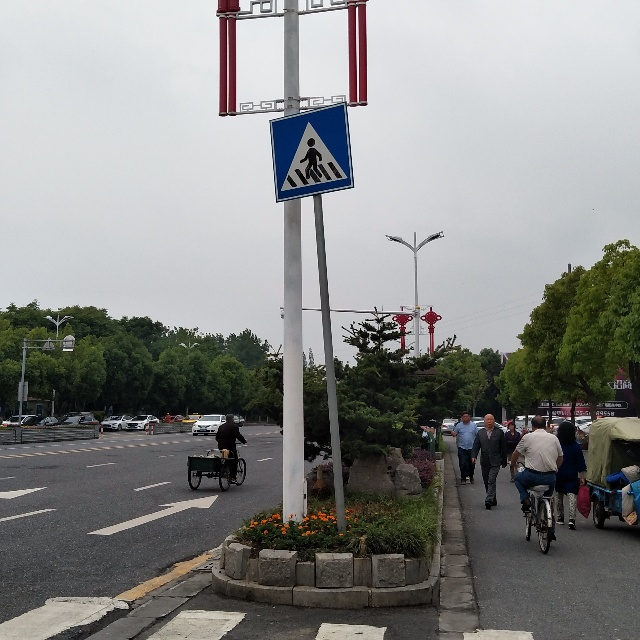crosswalk: (272, 100, 358, 205)
